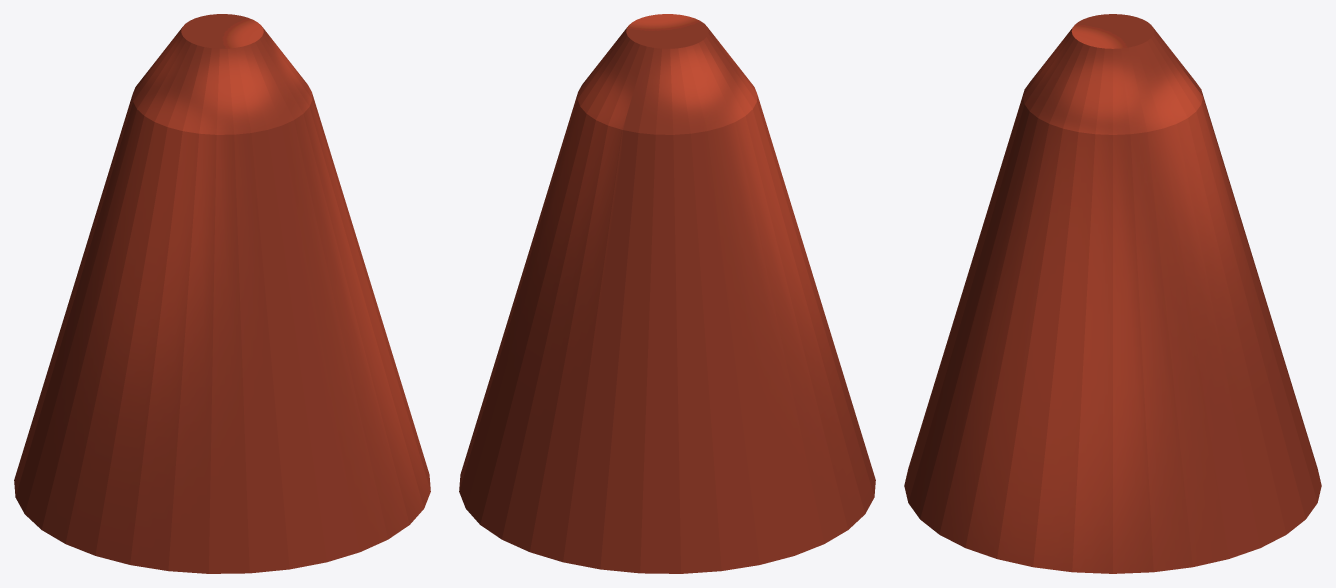
The model's file is Carrot.fbx.
3 renders of one model, left to right at view 1: azimuth 30°, elevation 25°; view 2: azimuth 150°, elevation 25°; view 3: azimuth 270°, elevation 25°, orthographic.
Parts seen in each view (by area): view 1: Cylinder; view 2: Cylinder; view 3: Cylinder.
Part boxes in pixels (x1,y1,x2,y2): Cylinder: (14, 14, 430, 573); Cylinder: (459, 14, 875, 573); Cylinder: (904, 14, 1321, 573).
Size of the model in its own units: 83.28 by 100 by 83.28.
